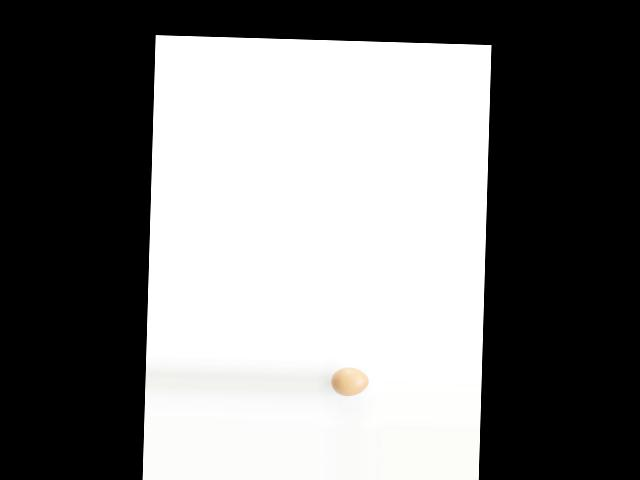egg: (330, 367, 369, 397)
